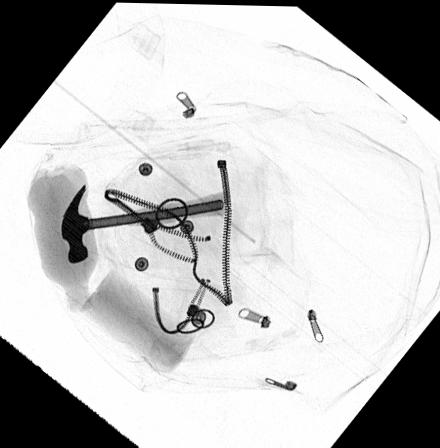Hammer: (59, 184, 228, 263)
